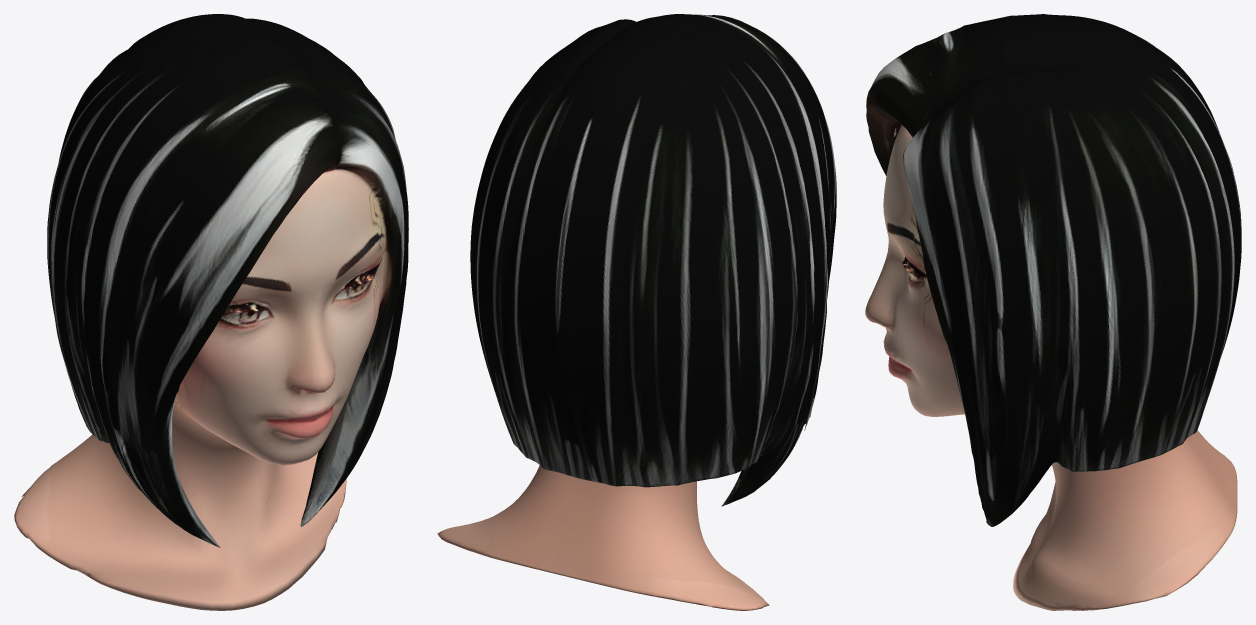
Rendered from sera.glb.
3 views of the same model, side by side, from view 1: azimuth 30°, elevation 25°; view 2: azimuth 150°, elevation 25°; view 3: azimuth 270°, elevation 25° (orthographic).
Parts seen in each view (by area): view 1: model; view 2: model; view 3: model.
Boxes of the visible parts, box(x1,y1,x2,y2) form: model: box(14, 14, 408, 610); model: box(437, 14, 836, 610); model: box(865, 14, 1241, 610).
Size of the model in its own units: 1.12 by 1.9 by 1.16.
1 material, 1 textured.
